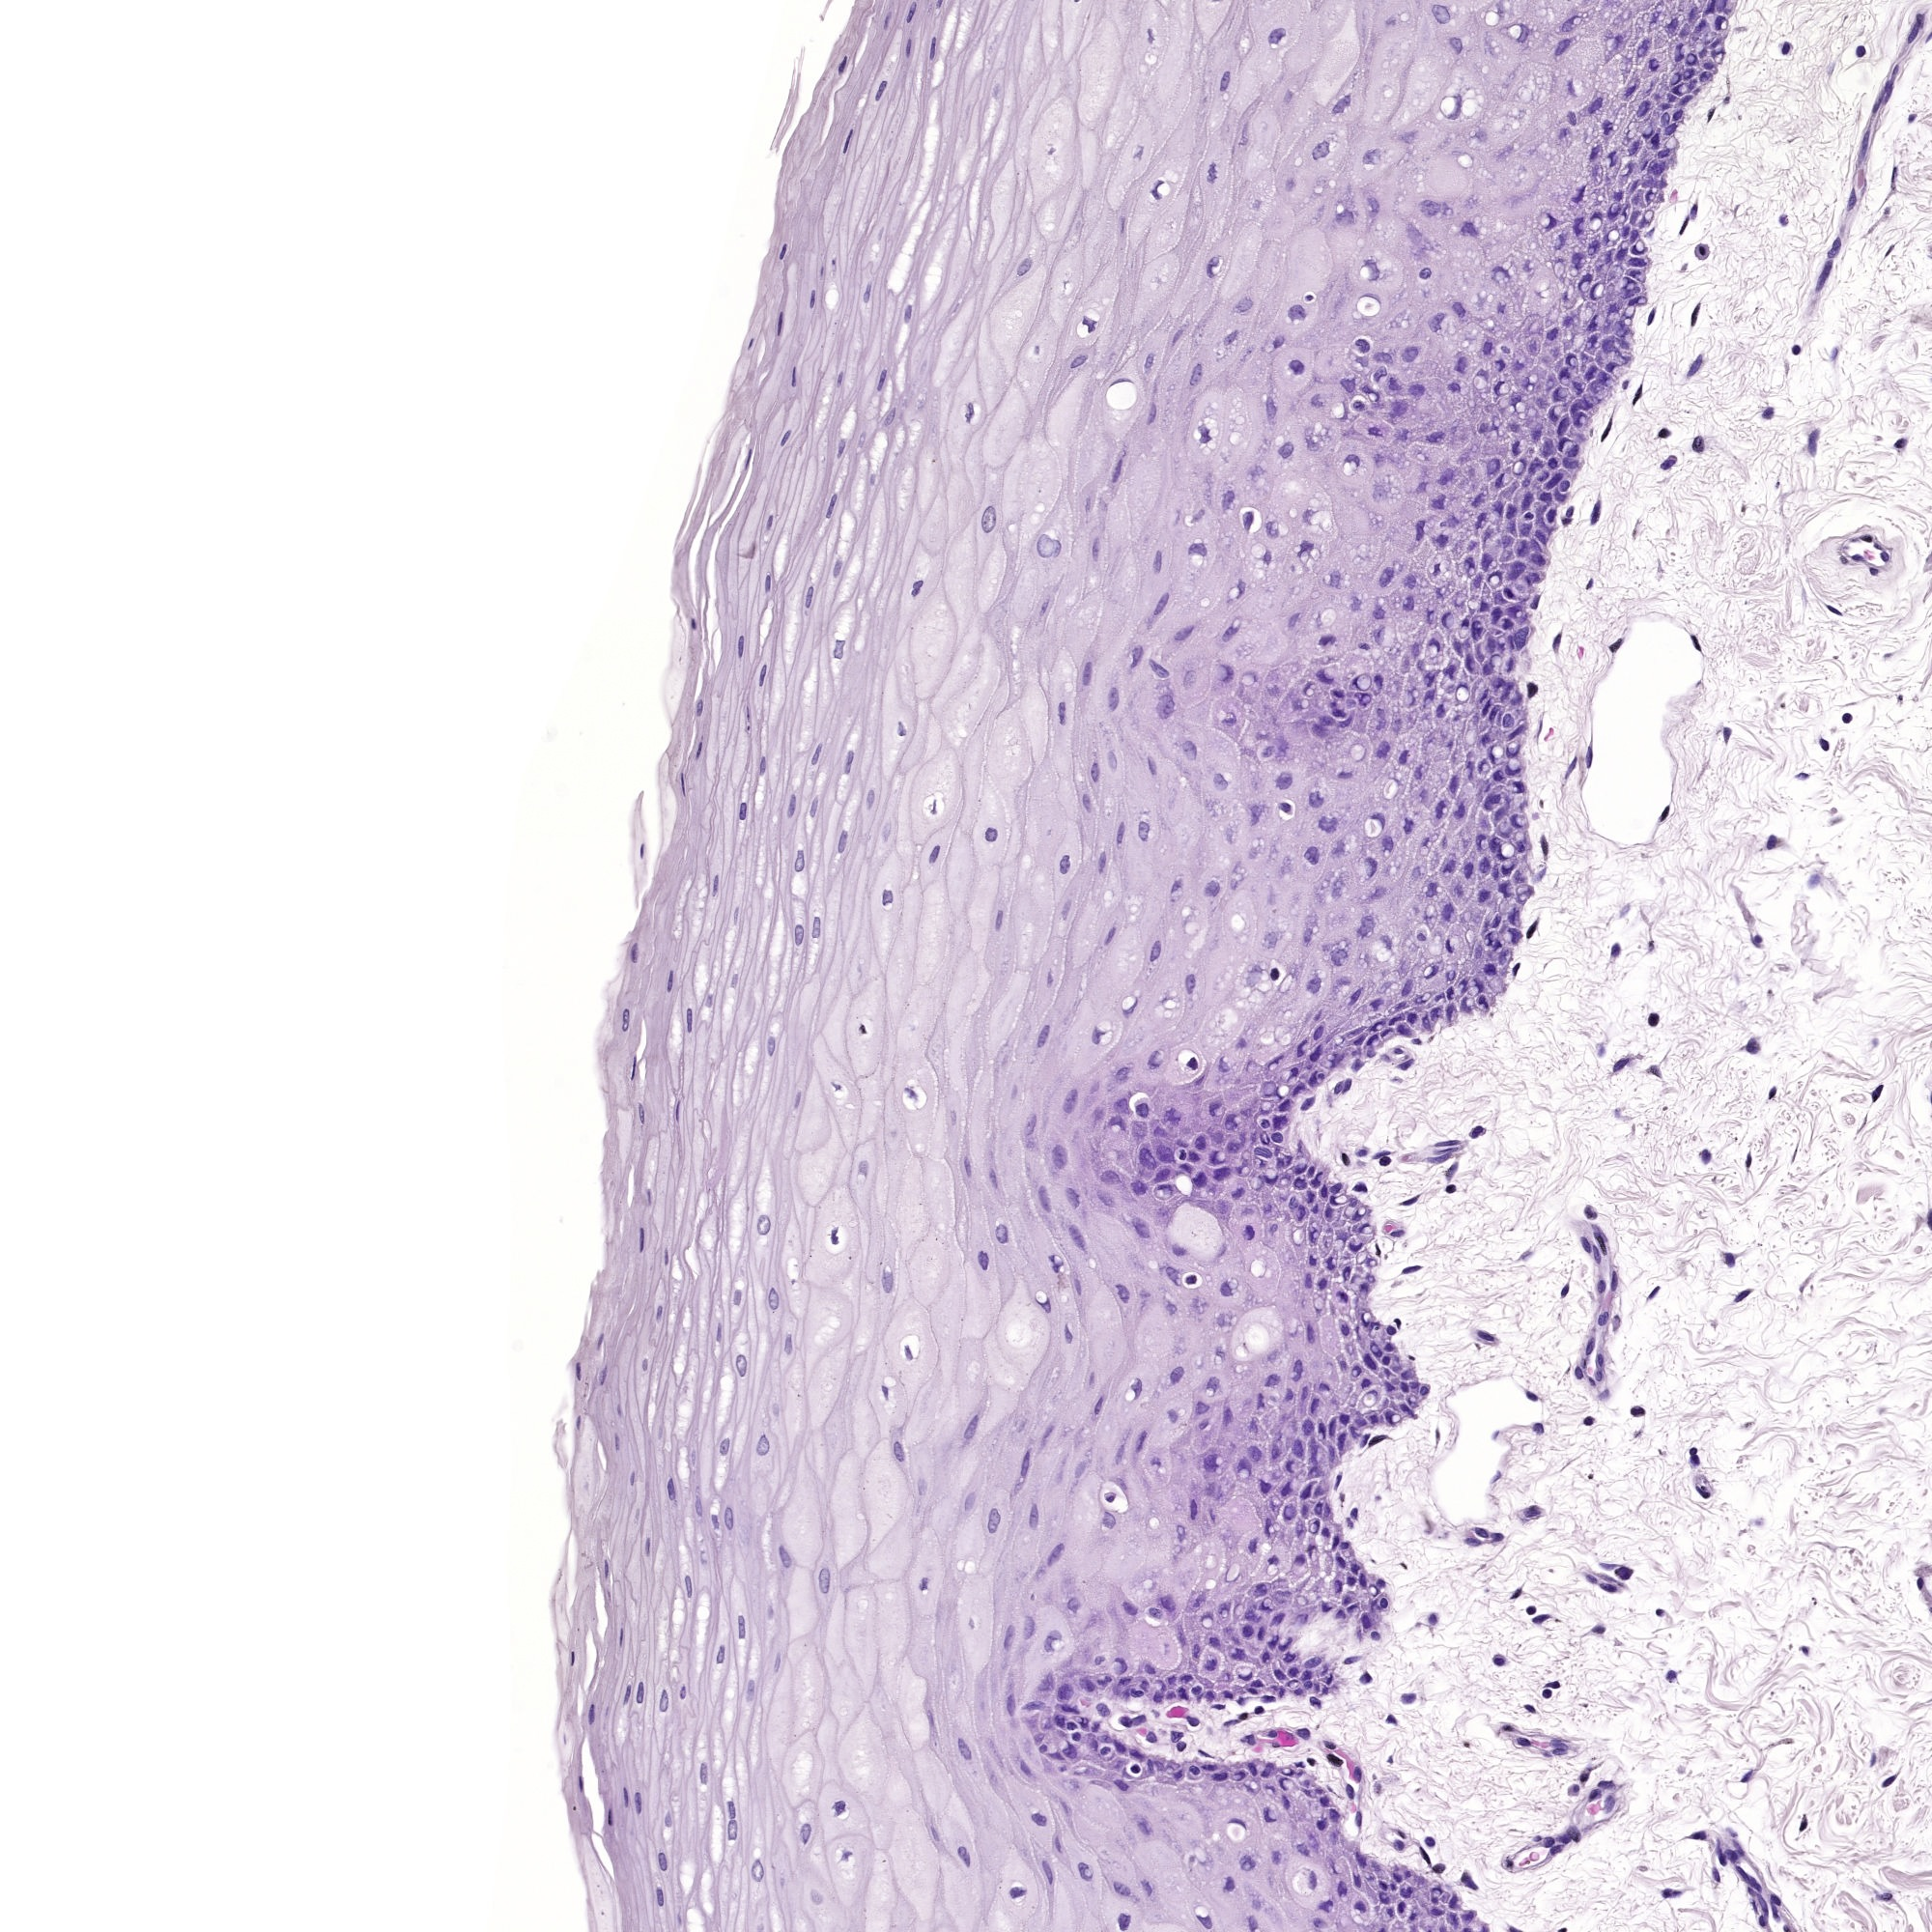epithelial: (1447, 862, 1454, 870), (1318, 147, 1323, 154), (1136, 1226, 1143, 1231), (1325, 1900, 1330, 1907), (1297, 1168, 1306, 1171), (814, 752, 819, 757), (1444, 474, 1451, 478), (1228, 497, 1231, 504), (1495, 775, 1502, 778), (1304, 1488, 1307, 1495), (1364, 1617, 1368, 1624), (1016, 1888, 1019, 1895), (1210, 170, 1214, 175), (1343, 214, 1346, 219), (1405, 134, 1410, 138), (1460, 363, 1463, 368), (1382, 357, 1387, 361), (1415, 387, 1421, 391), (1589, 370, 1592, 375), (1277, 340, 1281, 345), (1194, 517, 1200, 520), (1217, 778, 1223, 782), (1511, 610, 1514, 616), (1438, 805, 1442, 810), (1504, 885, 1507, 890), (1511, 916, 1514, 922), (1353, 994, 1357, 1000), (1332, 954, 1338, 957), (1392, 1017, 1398, 1021), (998, 916, 1001, 922), (1070, 1194, 1074, 1200), (1161, 1173, 1164, 1178), (1309, 1332, 1313, 1338), (1208, 1693, 1212, 1698), (1288, 1507, 1292, 1513), (1069, 1750, 1074, 1753), (1058, 1718, 1062, 1723), (1302, 1847, 1307, 1851), (1065, 1690, 1067, 1698), (1412, 230, 1415, 234), (1688, 73, 1691, 76), (1435, 433, 1438, 437), (1562, 425, 1566, 428), (1552, 481, 1555, 485), (1228, 338, 1231, 341), (1194, 372, 1198, 375), (784, 435, 787, 439), (837, 649, 840, 653), (1159, 600, 1162, 603), (1491, 713, 1495, 717), (1311, 853, 1315, 856), (1490, 800, 1497, 801), (1382, 1031, 1389, 1033), (1313, 1054, 1316, 1058), (1039, 1035, 1042, 1039), (842, 837, 844, 844), (1106, 1175, 1109, 1178), (1104, 1198, 1108, 1201), (1221, 1171, 1224, 1175), (1332, 1189, 1336, 1192), (1010, 1635, 1012, 1642), (1086, 1683, 1090, 1686), (1157, 1695, 1161, 1698), (1194, 1688, 1198, 1691), (1118, 1746, 1122, 1750), (1207, 1766, 1210, 1769), (1309, 1663, 1316, 1665), (909, 9, 911, 14), (1339, 101, 1341, 106), (1668, 129, 1674, 131), (1633, 145, 1635, 150), (1573, 449, 1575, 455), (1316, 398, 1318, 403), (1116, 469, 1118, 474), (832, 502, 833, 508), (847, 761, 849, 766), (1162, 706, 1164, 711), (1514, 729, 1516, 734), (1453, 784, 1454, 789), (1408, 823, 1410, 828), (1502, 869, 1507, 870), (1368, 927, 1369, 932), (1267, 939, 1272, 941), (1403, 1028, 1405, 1033), (800, 856, 801, 862), (732, 980, 738, 982), (1003, 1230, 1005, 1235), (1076, 1235, 1077, 1240), (1136, 1187, 1141, 1189), (1201, 1177, 1203, 1182), (1046, 1681, 1047, 1686), (1072, 1601, 1074, 1606), (1109, 1516, 1111, 1522), (1318, 1507, 1320, 1513), (1067, 1707, 1072, 1709), (1095, 1725, 1097, 1730), (1093, 1744, 1095, 1750), (1267, 1813, 1269, 1819), (1046, 1870, 1047, 1875), (1304, 1672, 1306, 1677), (886, 18, 888, 21), (867, 290, 869, 294), (1244, 306, 1247, 308), (1369, 156, 1371, 159), (1442, 12, 1444, 16), (1467, 228, 1470, 230), (1458, 308, 1461, 310), (1569, 117, 1571, 120), (1654, 138, 1656, 142), (1656, 165, 1658, 168), (1635, 260, 1637, 264), (1684, 28, 1686, 32), (1500, 308, 1504, 310), (1408, 352, 1412, 354), (1391, 384, 1394, 386), (1454, 386, 1458, 387), (1440, 499, 1442, 502), (1499, 479, 1500, 483), (1514, 446, 1516, 449), (1534, 433, 1536, 437), (1576, 405, 1580, 407), (1603, 377, 1605, 380), (1560, 441, 1562, 444), (1536, 464, 1537, 467), (1297, 364, 1299, 368), (1148, 361, 1152, 363), (1152, 412, 1154, 416), (1270, 407, 1272, 410), (1286, 448, 1288, 451), (748, 456, 750, 460), (888, 416, 890, 419), (904, 731, 906, 734), (1044, 545, 1046, 548), (1380, 750, 1382, 754), (1514, 568, 1516, 571), (1536, 559, 1539, 561), (1530, 577, 1534, 579), (1534, 600, 1536, 603), (1507, 621, 1509, 625), (1490, 642, 1491, 646), (1506, 720, 1507, 724), (1417, 771, 1419, 775), (1315, 800, 1316, 803), (1325, 824, 1329, 826), (1497, 812, 1500, 814), (1407, 985, 1408, 989), (1412, 1016, 1414, 1019), (1371, 1037, 1375, 1039), (1154, 1058, 1155, 1062), (1143, 828, 1145, 832), (932, 856, 936, 858), (798, 931, 800, 934), (633, 950, 635, 954), (770, 1042, 771, 1046), (633, 1065, 635, 1069), (863, 1164, 865, 1168), (968, 1164, 970, 1168), (1031, 1122, 1033, 1125), (1044, 1196, 1046, 1200), (1284, 1106, 1286, 1109), (1299, 1184, 1302, 1185), (1329, 1210, 1330, 1214), (1300, 1212, 1302, 1215), (1292, 1201, 1293, 1205), (1169, 1272, 1171, 1276), (1123, 1292, 1125, 1295), (1387, 1350, 1391, 1352), (1030, 1626, 1031, 1629), (1104, 1679, 1106, 1683), (1198, 1601, 1200, 1605), (1246, 1626, 1247, 1629), (1138, 1440, 1139, 1444), (1242, 1465, 1246, 1467), (1274, 1449, 1276, 1453), (1304, 1509, 1306, 1513), (1325, 1530, 1327, 1534), (1339, 1560, 1343, 1562), (1350, 1578, 1352, 1582), (1346, 1598, 1348, 1601), (1405, 1893, 1408, 1895), (1435, 1913, 1438, 1914), (1453, 1898, 1454, 1902), (1054, 1755, 1056, 1759), (1157, 1764, 1159, 1767), (1178, 1773, 1180, 1776), (1217, 1778, 1221, 1780), (1265, 1771, 1269, 1773), (1361, 1859, 1362, 1863), (1361, 1905, 1362, 1909), (1320, 1923, 1322, 1927), (1120, 1888, 1122, 1891), (1148, 1882, 1150, 1886), (1143, 1826, 1145, 1829), (1122, 1782, 1123, 1785), (1263, 1654, 1267, 1656), (1228, 1693, 1231, 1695), (908, 48, 909, 50), (1560, 44, 1562, 46), (1295, 313, 1297, 315), (1711, 7, 1713, 9), (1704, 76, 1706, 78), (1594, 106, 1596, 108), (1675, 119, 1677, 120), (1684, 101, 1686, 103), (1668, 96, 1670, 97), (1644, 108, 1645, 110), (1629, 90, 1631, 92), (1580, 193, 1582, 195), (1622, 255, 1624, 257), (1591, 324, 1592, 326), (1500, 363, 1502, 364), (1483, 426, 1484, 428), (1476, 501, 1477, 502), (1493, 465, 1495, 467), (1578, 389, 1580, 391), (1569, 464, 1571, 465), (1564, 485, 1566, 487), (1543, 474, 1545, 476), (1497, 508, 1499, 510), (1539, 534, 1541, 536), (1175, 334, 1177, 336), (1076, 361, 1077, 363), (697, 750, 699, 752), (809, 594, 810, 596), (837, 568, 839, 570), (1095, 771, 1097, 773), (1157, 667, 1159, 669), (1182, 633, 1184, 635), (1318, 731, 1320, 732), (1338, 711, 1339, 713), (1484, 561, 1486, 563), (1536, 543, 1537, 545), (1495, 614, 1497, 616), (1509, 639, 1511, 640), (1484, 708, 1486, 709), (1401, 759, 1403, 761), (1345, 773, 1346, 775), (1376, 1001, 1378, 1003), (1155, 948, 1157, 950), (1212, 885, 1214, 886), (1426, 1021, 1428, 1023), (1361, 1042, 1362, 1044), (1316, 1031, 1318, 1033), (1120, 832, 1122, 833), (1063, 865, 1065, 867), (648, 1194, 649, 1196), (1143, 1157, 1145, 1159), (1162, 1152, 1164, 1154), (1159, 1131, 1161, 1132), (1299, 1086, 1300, 1088), (1251, 1231, 1253, 1233), (1178, 1249, 1180, 1251), (1311, 1261, 1313, 1263), (1329, 1265, 1330, 1267), (1320, 1283, 1322, 1284), (1341, 1297, 1343, 1299), (1369, 1362, 1371, 1364), (1385, 1361, 1387, 1362), (1054, 1550, 1056, 1552), (1033, 1706, 1035, 1707), (1125, 1681, 1127, 1683), (1210, 1663, 1212, 1665), (1127, 1605, 1129, 1606), (1168, 1601, 1169, 1603), (1215, 1642, 1217, 1644), (1249, 1614, 1251, 1615), (1251, 1453, 1253, 1454), (1343, 1545, 1345, 1546), (1380, 1582, 1382, 1583), (1384, 1897, 1385, 1898), (1435, 1900, 1437, 1902), (1468, 1918, 1470, 1920), (1072, 1725, 1074, 1727), (1042, 1748, 1044, 1750), (1136, 1755, 1138, 1757), (1332, 1813, 1334, 1815), (1313, 1838, 1315, 1840), (1039, 1819, 1040, 1821), (962, 1746, 964, 1748), (1256, 1683, 1258, 1684)
fibroblast and endothelial: (1405, 1695, 1412, 1700), (1776, 1897, 1782, 1902), (1601, 1783, 1608, 1787), (1854, 556, 1859, 559), (1530, 929, 1534, 934), (1555, 1741, 1560, 1744), (1100, 1707, 1104, 1713), (817, 1897, 821, 1902), (1875, 106, 1879, 110), (1888, 90, 1891, 94), (1589, 752, 1591, 759), (1405, 1063, 1408, 1067), (1486, 1336, 1493, 1338), (1407, 1269, 1414, 1270), (1481, 1530, 1484, 1534), (1346, 1660, 1350, 1663), (1315, 1698, 1318, 1702), (1886, 1780, 1890, 1783), (1773, 1913, 1776, 1916), (1555, 1847, 1559, 1851), (1398, 1842, 1401, 1845), (1467, 1879, 1470, 1882), (1265, 1697, 1269, 1700), (1136, 1720, 1139, 1723), (1173, 1734, 1177, 1737), (1247, 1736, 1251, 1739), (1330, 1757, 1334, 1760), (1329, 1743, 1332, 1746), (1824, 271, 1826, 276), (1835, 248, 1836, 253), (1852, 196, 1854, 202), (1451, 1166, 1453, 1171), (1615, 1320, 1617, 1325), (1695, 1835, 1700, 1836), (1592, 1792, 1594, 1798), (1522, 1739, 1523, 1744), (1150, 1734, 1152, 1739), (610, 1815, 612, 1821), (1667, 460, 1668, 464), (1569, 510, 1571, 513), (1571, 764, 1573, 768), (1824, 743, 1826, 747), (1844, 559, 1845, 563), (1752, 1044, 1753, 1047), (1359, 1152, 1362, 1154), (1382, 1154, 1385, 1155), (1445, 1141, 1449, 1143), (1440, 1159, 1442, 1162), (1619, 1065, 1621, 1069), (1589, 1346, 1591, 1350), (1741, 1297, 1744, 1299), (1539, 1426, 1541, 1430), (1472, 1541, 1474, 1545), (1431, 1615, 1433, 1619), (1553, 1684, 1557, 1686), (1704, 1493, 1707, 1495), (1723, 1859, 1725, 1863), (1741, 1874, 1744, 1875), (1575, 1831, 1576, 1835), (1559, 1752, 1562, 1753), (1506, 1727, 1509, 1729), (1424, 1856, 1426, 1859), (1192, 1720, 1194, 1723), (1230, 1721, 1233, 1723), (1304, 1730, 1306, 1734), (1783, 218, 1785, 219), (1693, 364, 1695, 366), (1865, 538, 1867, 540), (1566, 520, 1568, 522), (1532, 688, 1534, 690), (1695, 642, 1697, 644), (1799, 775, 1801, 777), (1835, 610, 1836, 612), (1874, 573, 1875, 575), (1884, 556, 1886, 557), (1773, 842, 1775, 844), (1614, 952, 1615, 954), (1399, 1049, 1401, 1051), (1345, 1159, 1346, 1161), (1447, 1148, 1449, 1150), (1359, 1189, 1361, 1191), (1652, 1293, 1654, 1295), (1727, 1258, 1729, 1260), (1403, 1564, 1405, 1566), (1497, 1537, 1499, 1539), (1537, 1619, 1539, 1621), (1516, 1592, 1518, 1594), (1529, 1707, 1530, 1709), (1592, 1578, 1594, 1580), (1606, 1566, 1608, 1568), (1803, 1824, 1805, 1826), (1746, 1775, 1748, 1776), (1714, 1874, 1716, 1875), (1752, 1882, 1753, 1884), (1762, 1905, 1764, 1907), (1753, 1891, 1755, 1893), (1583, 1776, 1585, 1778), (1399, 1835, 1401, 1836), (1201, 1753, 1203, 1755), (1309, 1760, 1311, 1762)
inflammatory: (1474, 1129, 1479, 1134), (1530, 1509, 1534, 1514), (1635, 1410, 1638, 1414), (1143, 1108, 1145, 1113), (1125, 1720, 1127, 1725), (1624, 1569, 1626, 1573), (1697, 442, 1698, 444), (1384, 1603, 1385, 1605), (1499, 1661, 1500, 1663)
lymphocyte: (1226, 1414, 1230, 1421), (970, 1499, 973, 1504), (1362, 343, 1366, 347), (1297, 1364, 1300, 1368), (968, 1428, 971, 1431), (885, 1277, 888, 1281), (1424, 271, 1426, 276), (839, 1803, 840, 1808), (1651, 1017, 1652, 1021), (1419, 938, 1422, 939), (1382, 1161, 1385, 1162), (1276, 1136, 1277, 1139), (1373, 1419, 1375, 1422), (1346, 1417, 1348, 1421), (1307, 1424, 1309, 1428), (1270, 1380, 1274, 1382), (1171, 1412, 1173, 1415), (1065, 1334, 1067, 1338), (640, 1691, 642, 1695), (1307, 297, 1309, 299), (1796, 349, 1798, 350), (1661, 433, 1663, 435), (1507, 593, 1509, 594), (1587, 1421, 1589, 1422), (1398, 1322, 1399, 1323), (1387, 1385, 1389, 1387), (1405, 1376, 1407, 1378), (1323, 1387, 1325, 1389), (1288, 1392, 1290, 1394), (1359, 1421, 1361, 1422), (1212, 1382, 1214, 1384), (1200, 1408, 1201, 1410), (1203, 1424, 1205, 1426), (773, 1297, 775, 1299), (600, 1339, 602, 1341), (617, 1410, 619, 1412), (671, 1486, 672, 1488), (763, 1444, 764, 1445), (715, 1520, 717, 1522), (1033, 1514, 1035, 1516), (646, 1545, 648, 1546), (663, 1702, 665, 1704), (1530, 1608, 1532, 1610), (1546, 1693, 1548, 1695)
